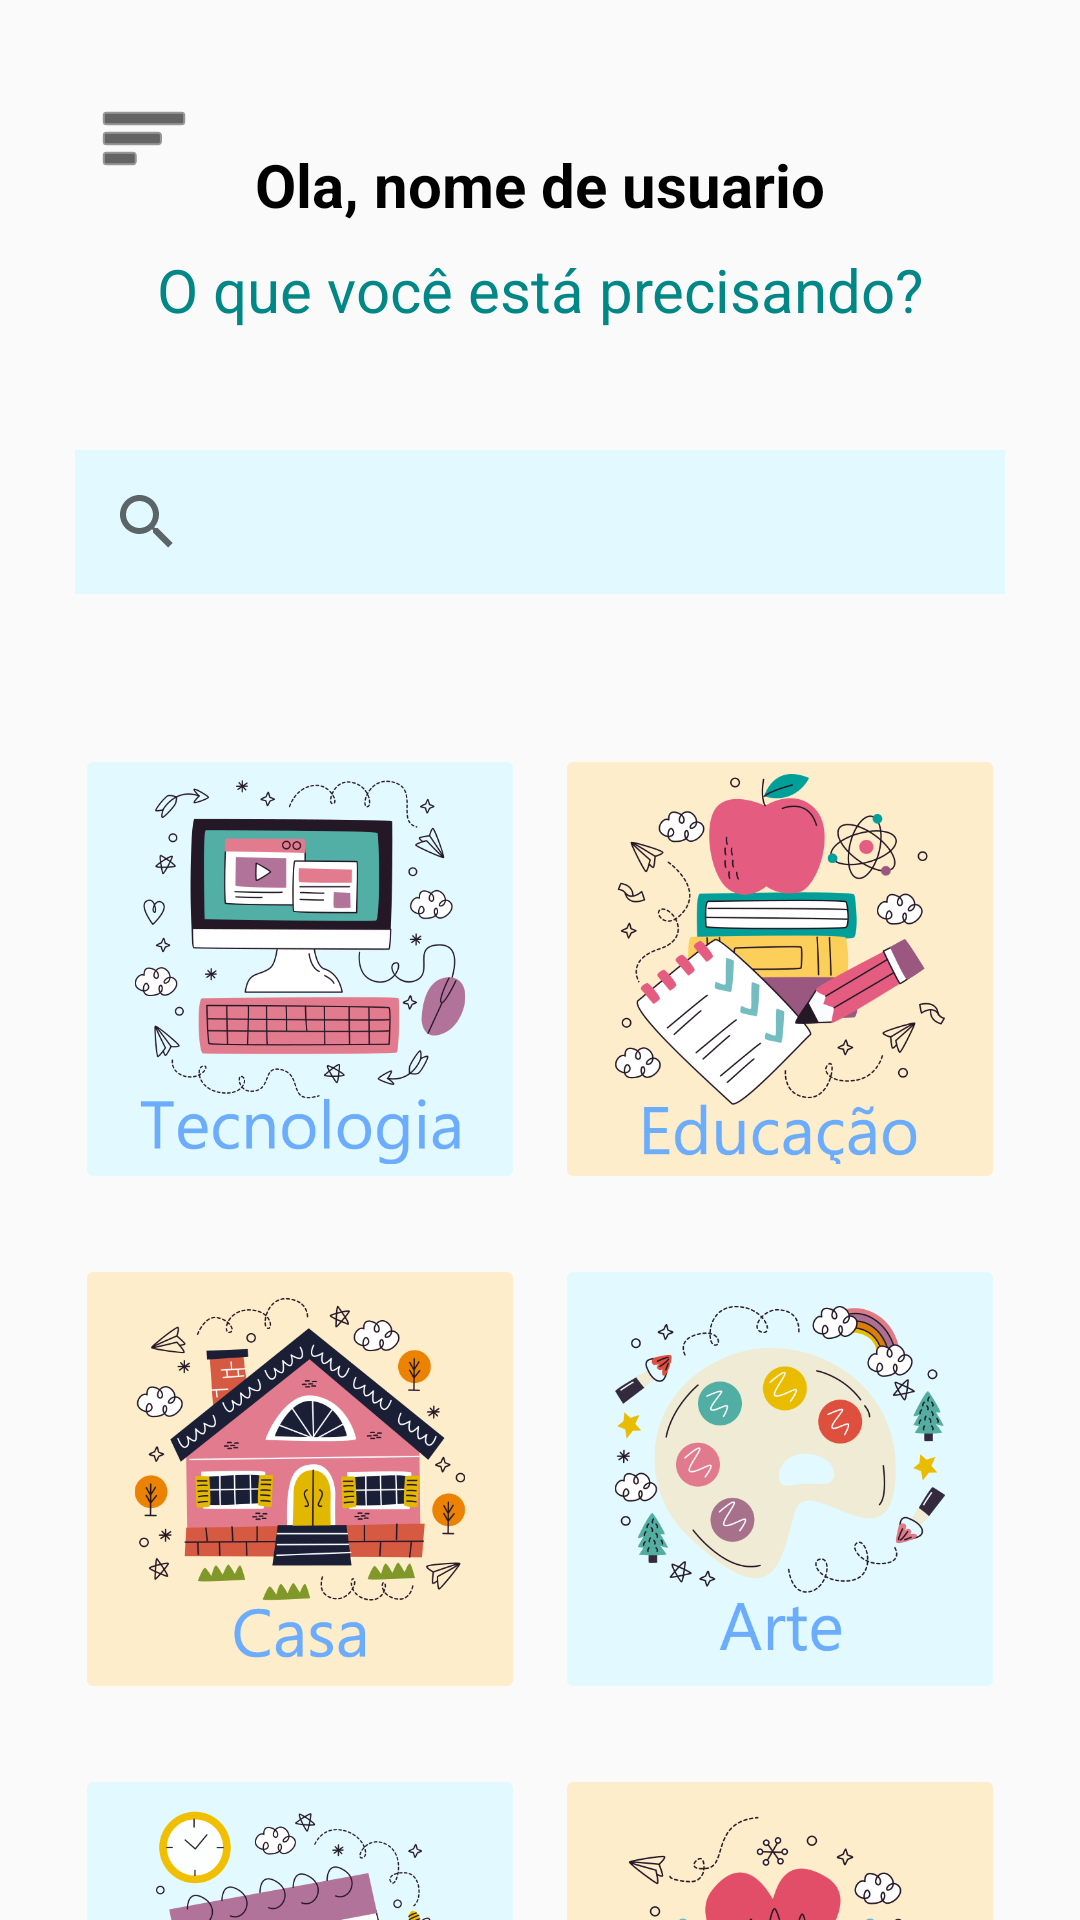

Screen size 1080px×1920px. Icon name, then its center in pixels as (x=x, y=y):
sort by size: (x=144, y=138)
